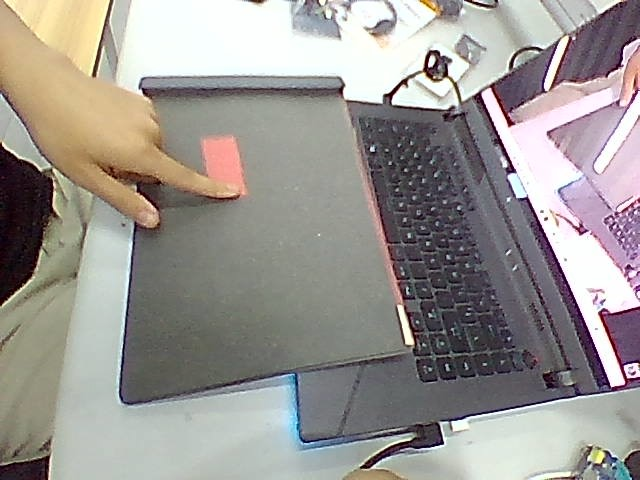card: (201, 135, 245, 195)
